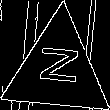N_W: (33, 47, 82, 92)
